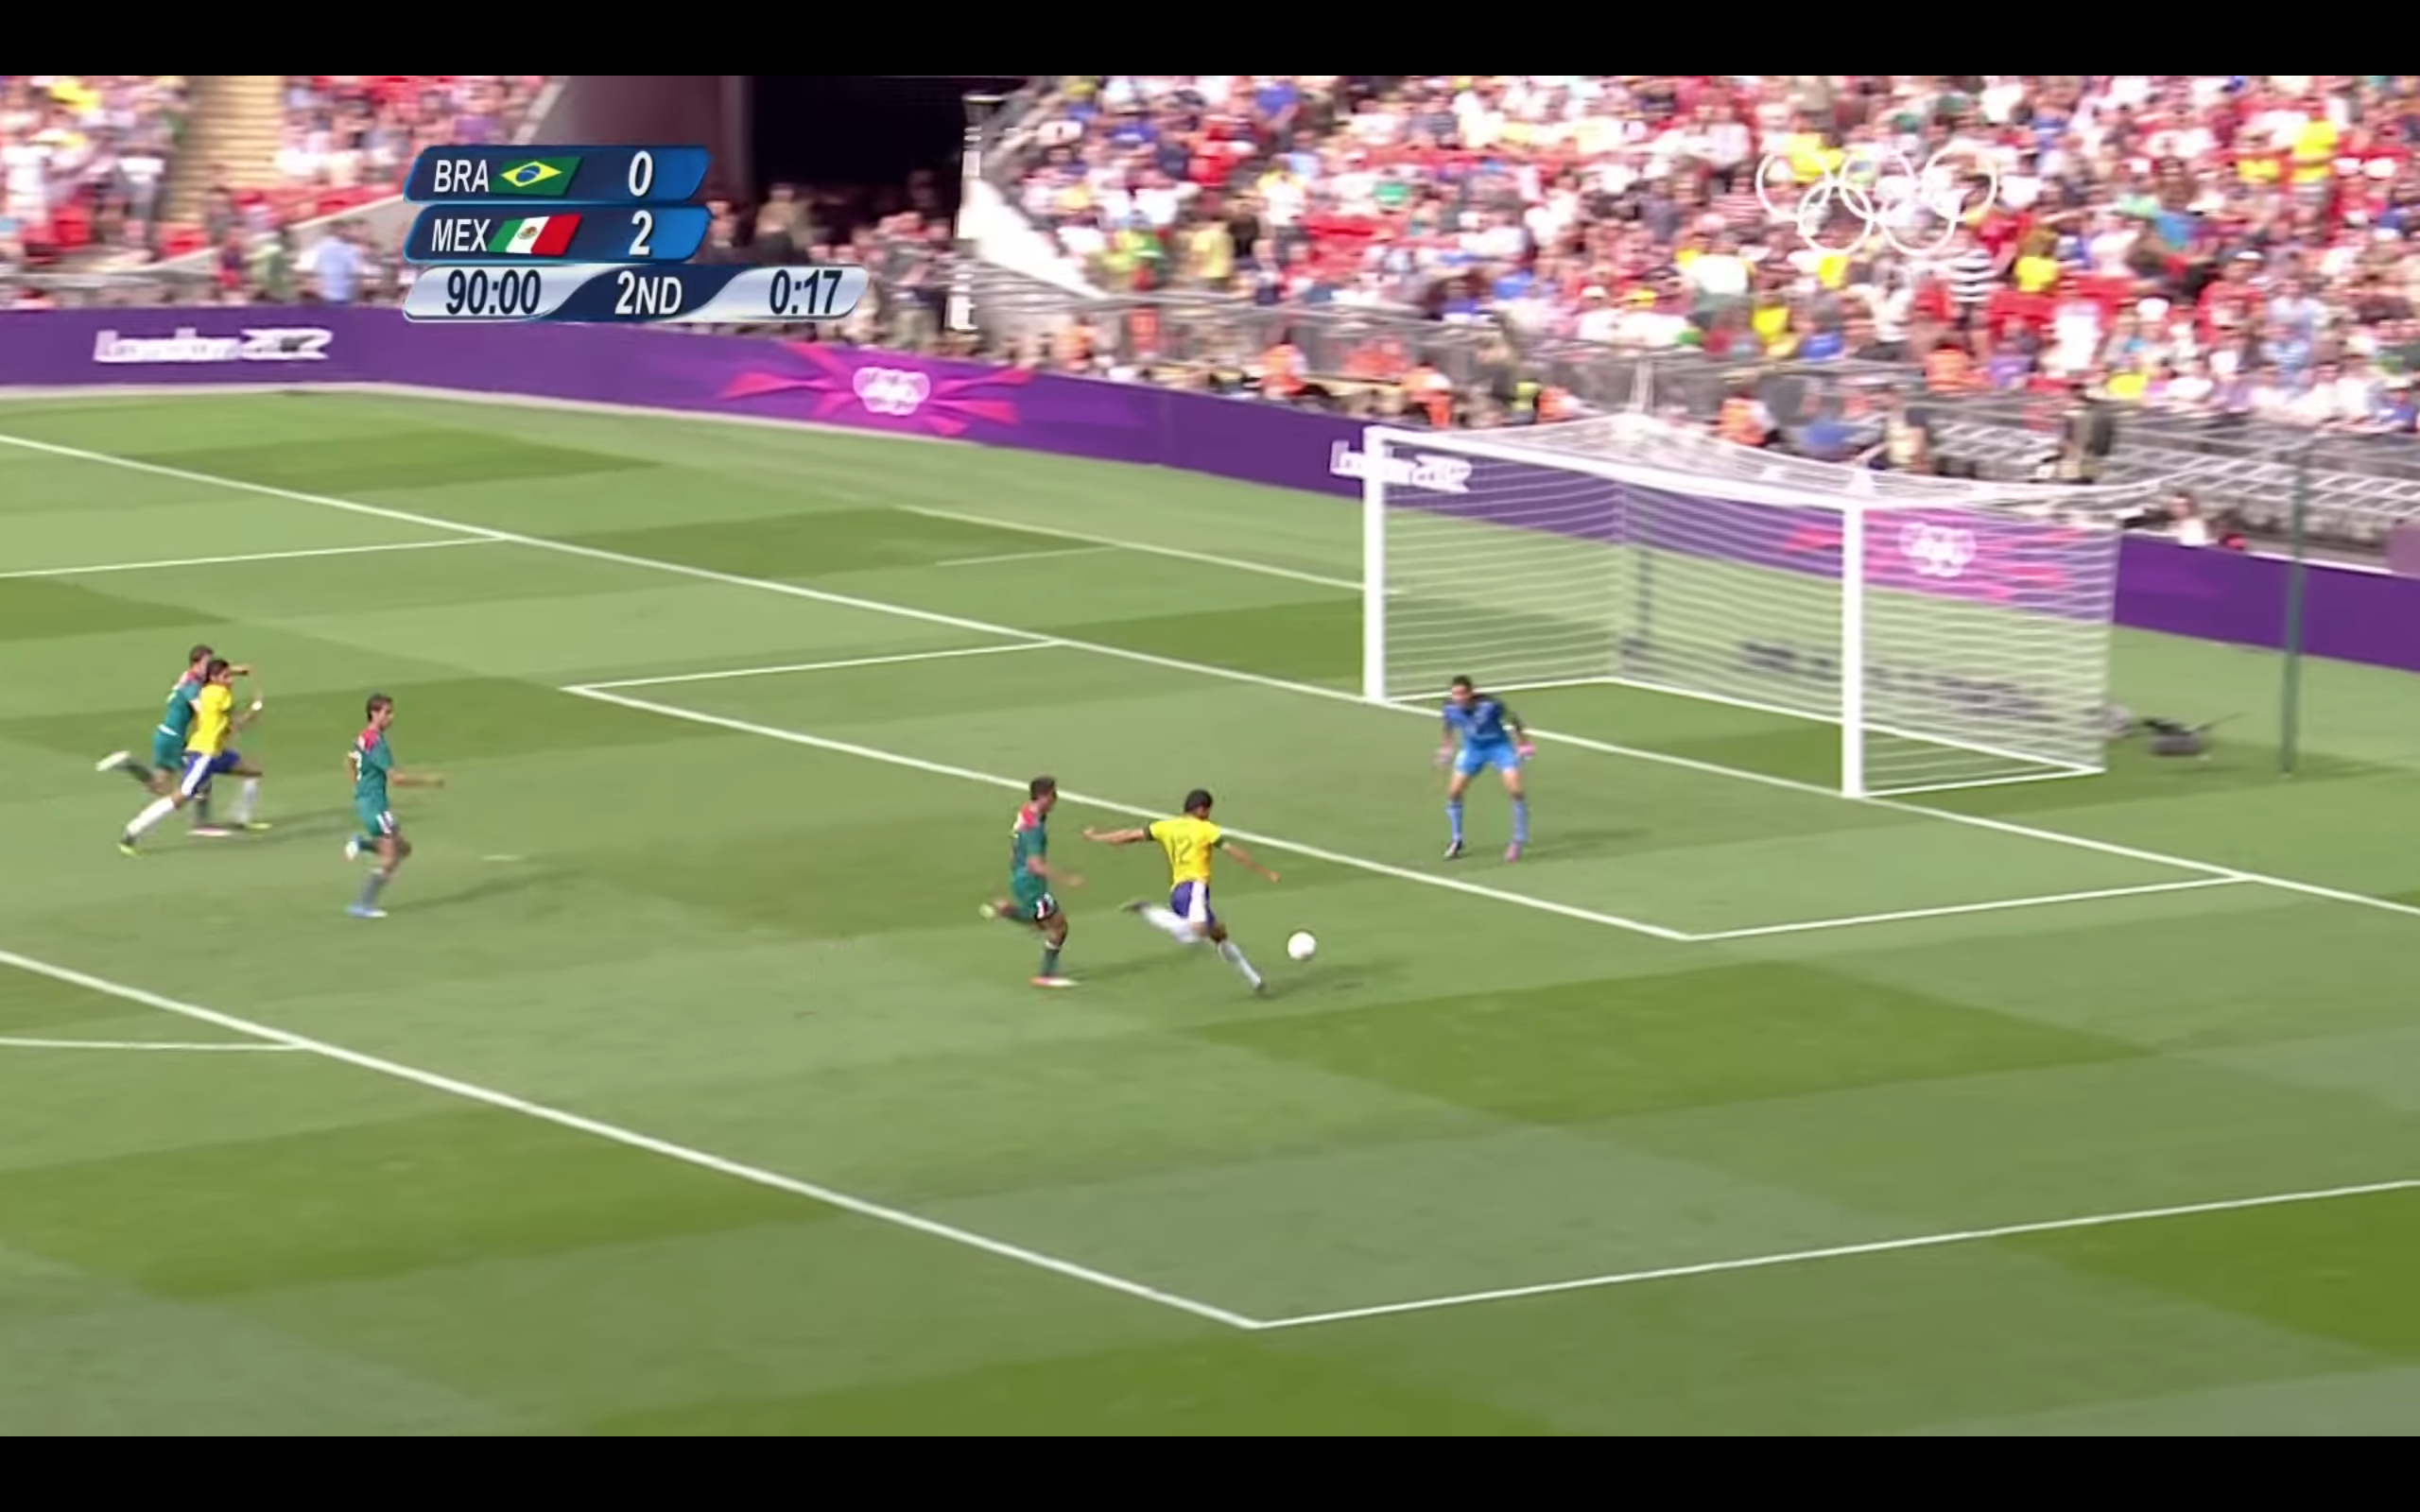soccer player: (1076, 786, 1285, 998), (327, 684, 455, 939), (128, 663, 276, 857), (978, 755, 1091, 1008), (1418, 671, 1553, 870), (102, 627, 225, 837)
soccerball: (1282, 919, 1323, 968)
